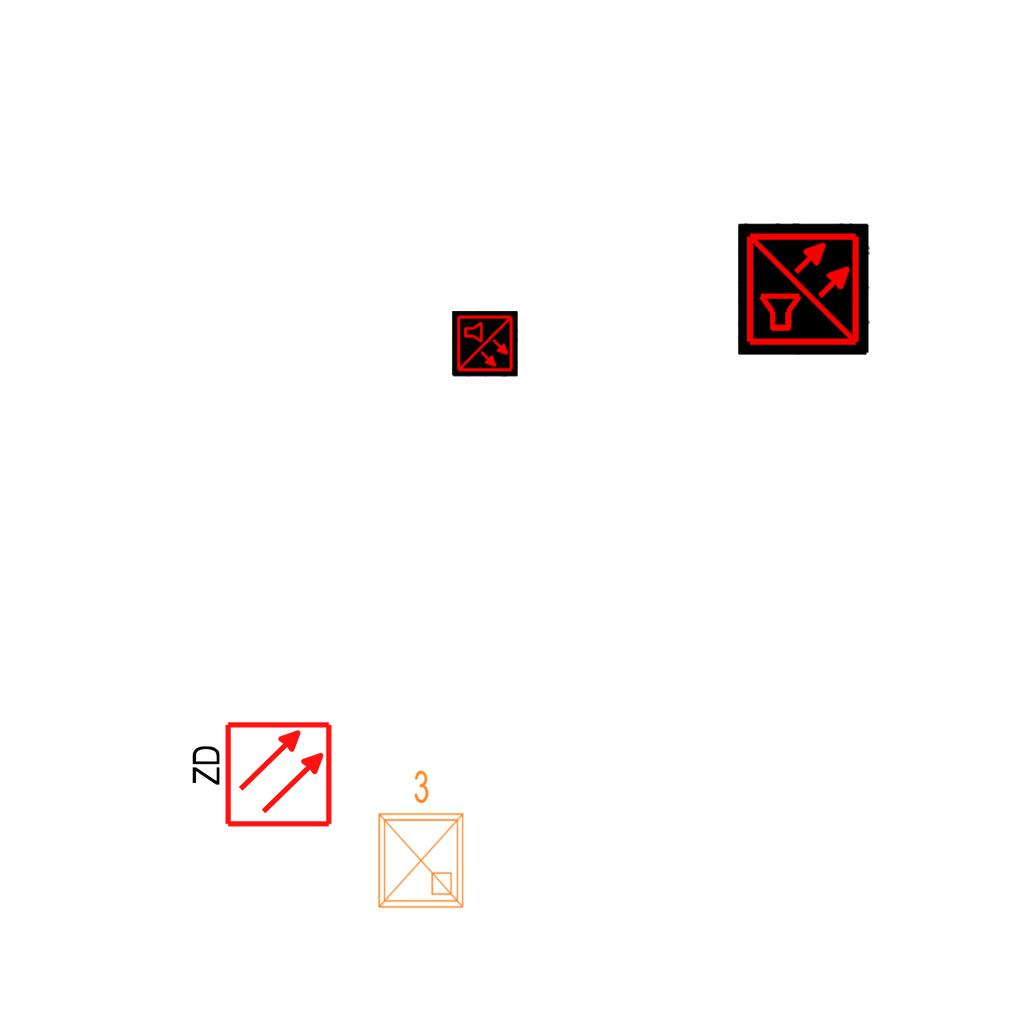Einbaudownlights_LED_Konferenzraeume: (367, 765, 471, 915)
OKW_Multisensormelder_(Kombination_optischer_Rauch-Kahlenmonoxid_Waerme-Melder): (738, 223, 870, 355), (452, 311, 518, 377)
ZD_Melder_in_Zwischendecke_mit_Revisionsoeffnung_mind_40_x_40_cm: (185, 719, 334, 833)
